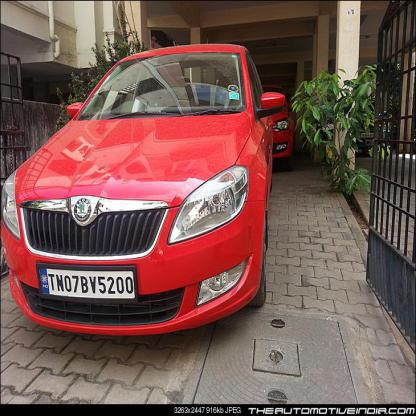license_plate: (34, 265, 135, 301)
